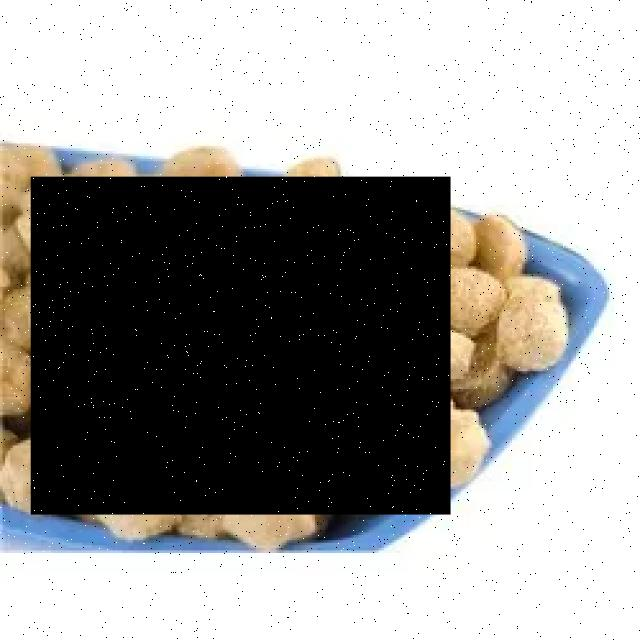Nutrela: (33, 177, 453, 515)
